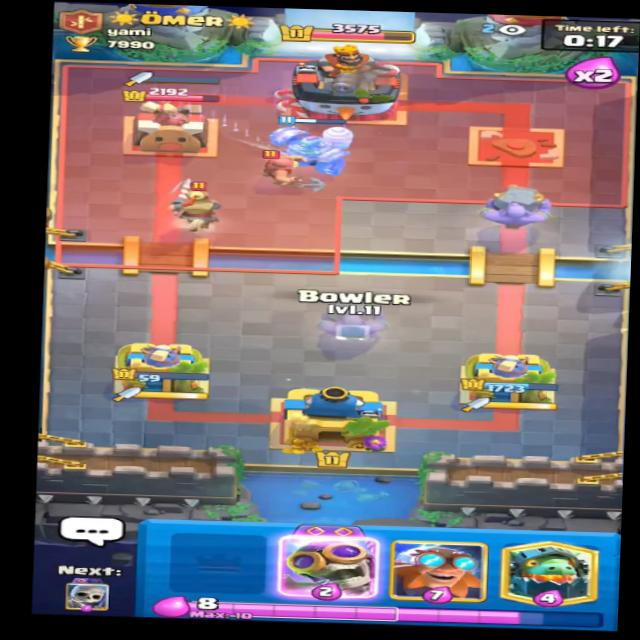fisherman: (244, 144, 324, 193)
prince: (165, 180, 229, 234)
